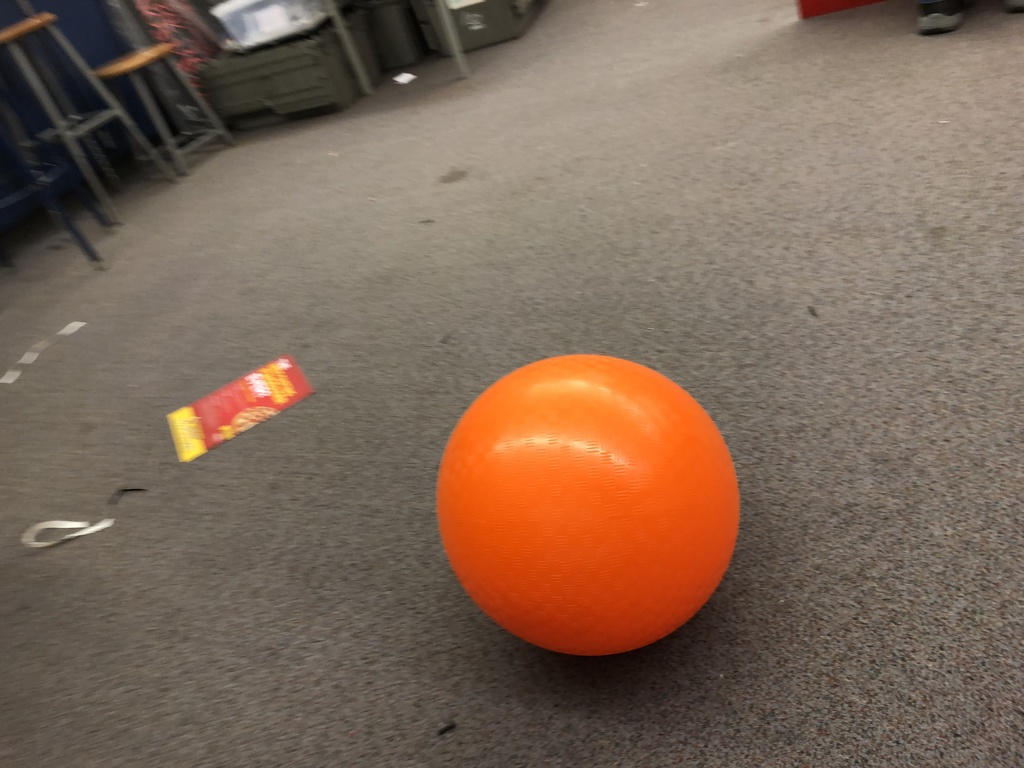cargo: (429, 345, 762, 685)
